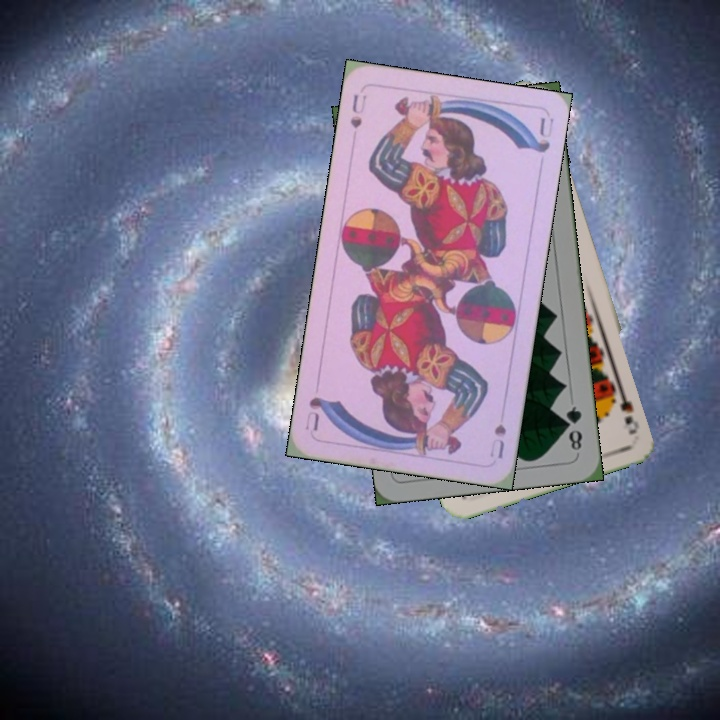G8: (561, 402, 585, 453)
S9: (608, 380, 636, 427)
SU: (486, 420, 509, 461), (346, 90, 369, 131)
